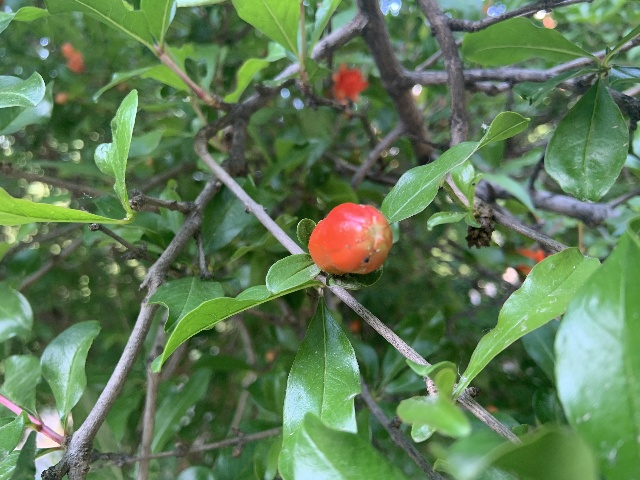bud: (309, 202, 392, 276)
flower: (329, 64, 369, 105)
